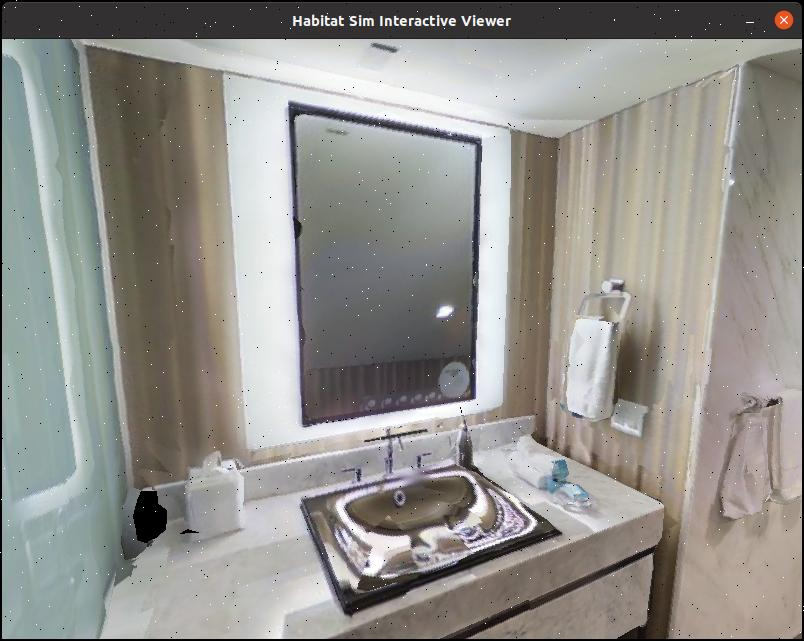sink: (275, 416, 568, 622)
